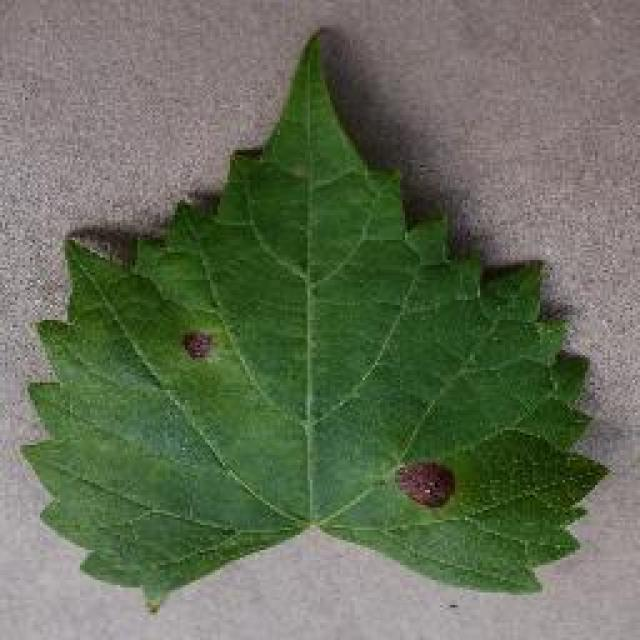Grape___Black_rot: (5, 30, 617, 621)
